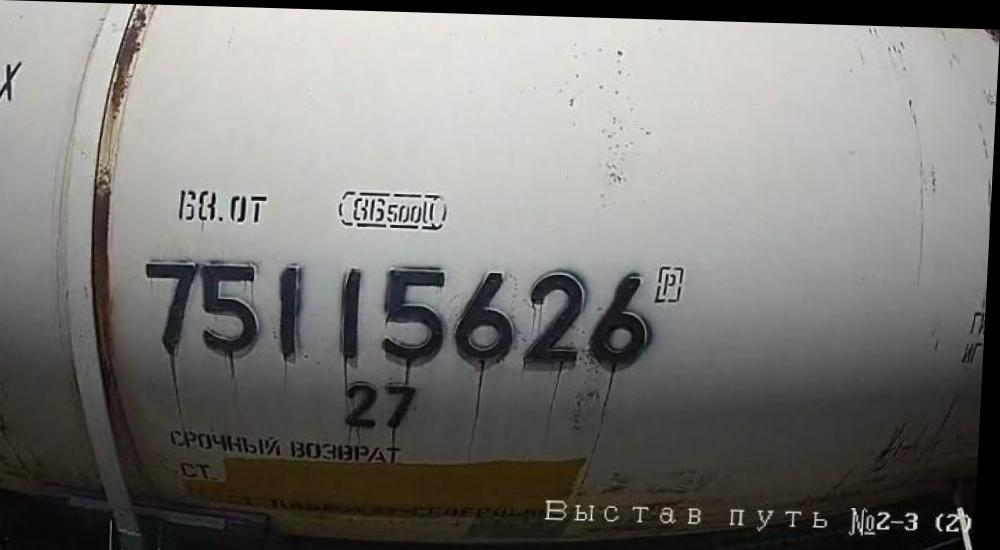Wagon-number: (140, 255, 662, 372)
